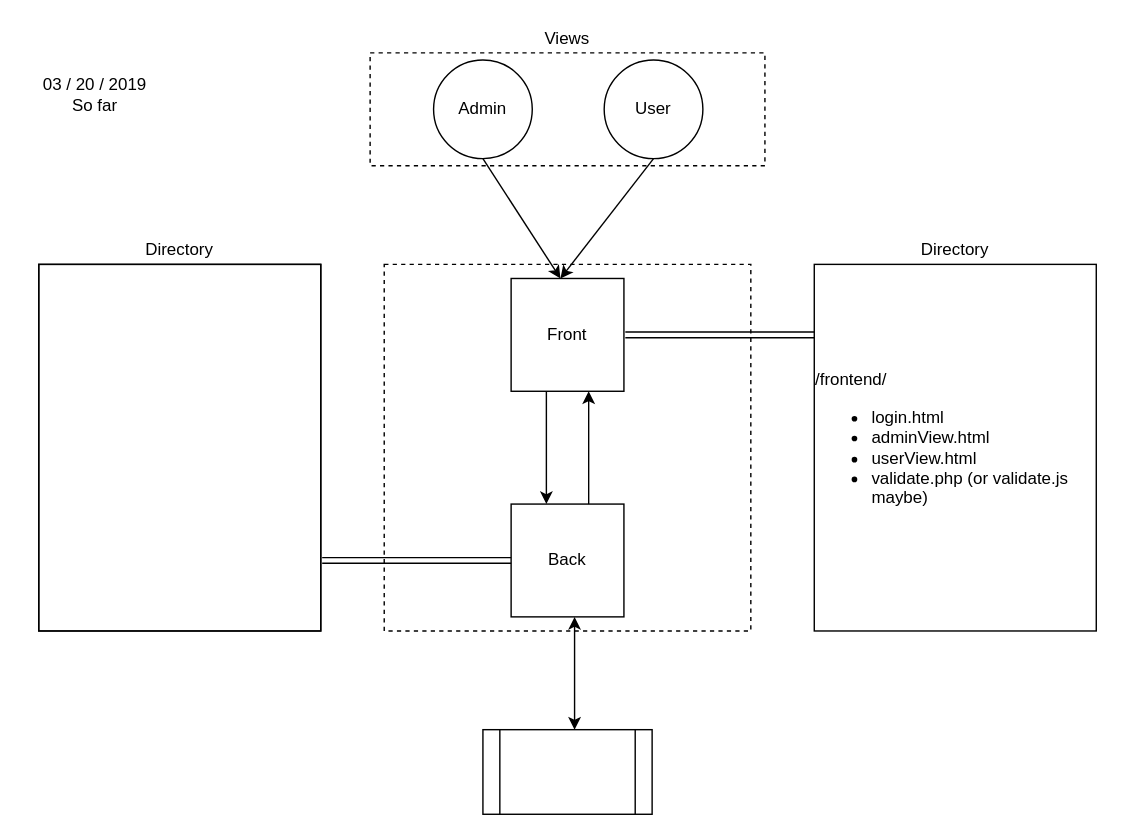
Some shapes in this 1121 by 839 pixel diagram are drawn without their labels. Here are the shapes that lost their labels. From the top down, the centre of each, then its label:
point 179,447: /backend/ AI.js TrackSys.js MgmtSys.js
point 567,771: Mongo
